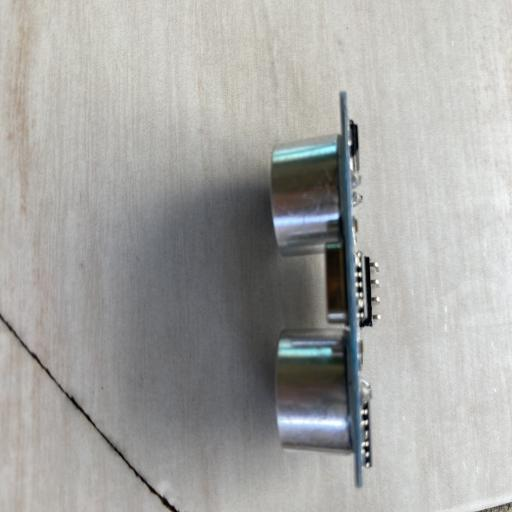Ultrasonic Sensor: (269, 90, 382, 488)
